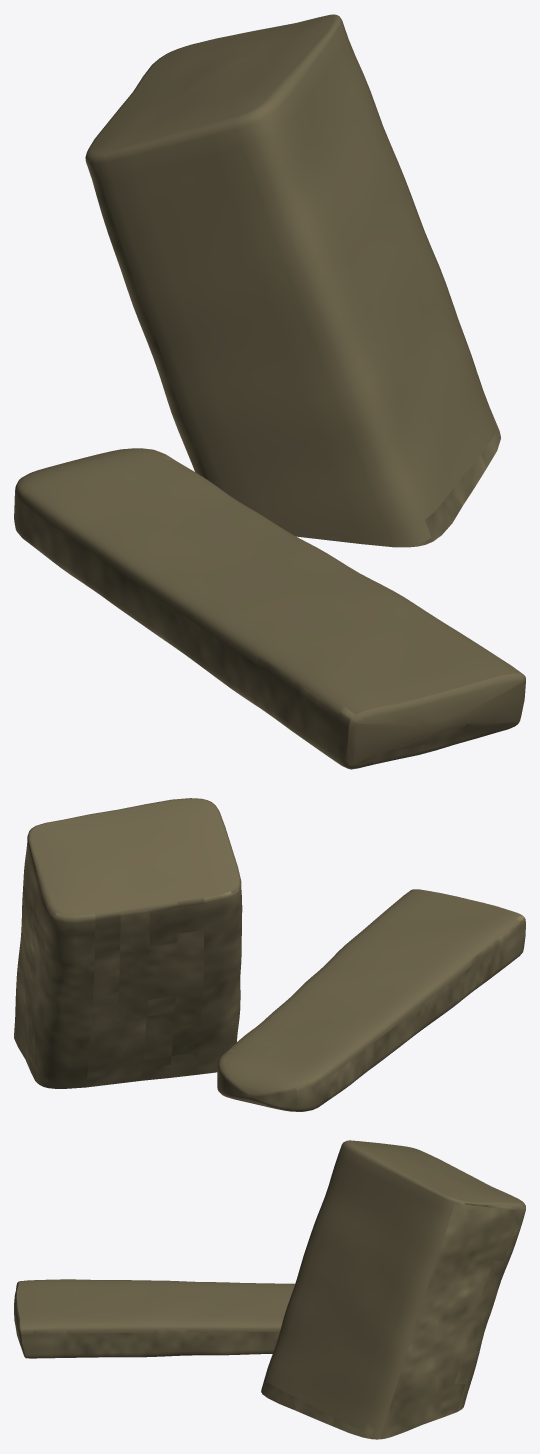
The model's file is ZonHenge01.glb.
3 views of the same model, one above another, from view 1: azimuth 30°, elevation 25°; view 2: azimuth 150°, elevation 25°; view 3: azimuth 270°, elevation 25° (orthographic). The views are drawn at different scales.
Parts seen in each view (by area): view 1: ZonHenge01; view 2: ZonHenge01; view 3: ZonHenge01.
Boxes of the visible parts, x1,y1,x2,y2 form: ZonHenge01: [14, 14, 525, 769]; ZonHenge01: [14, 798, 525, 1111]; ZonHenge01: [14, 1140, 525, 1439].
Bounding box in the file's own units: 2.78 × 2.27 × 4.64.
2 materials, 1 textured.
